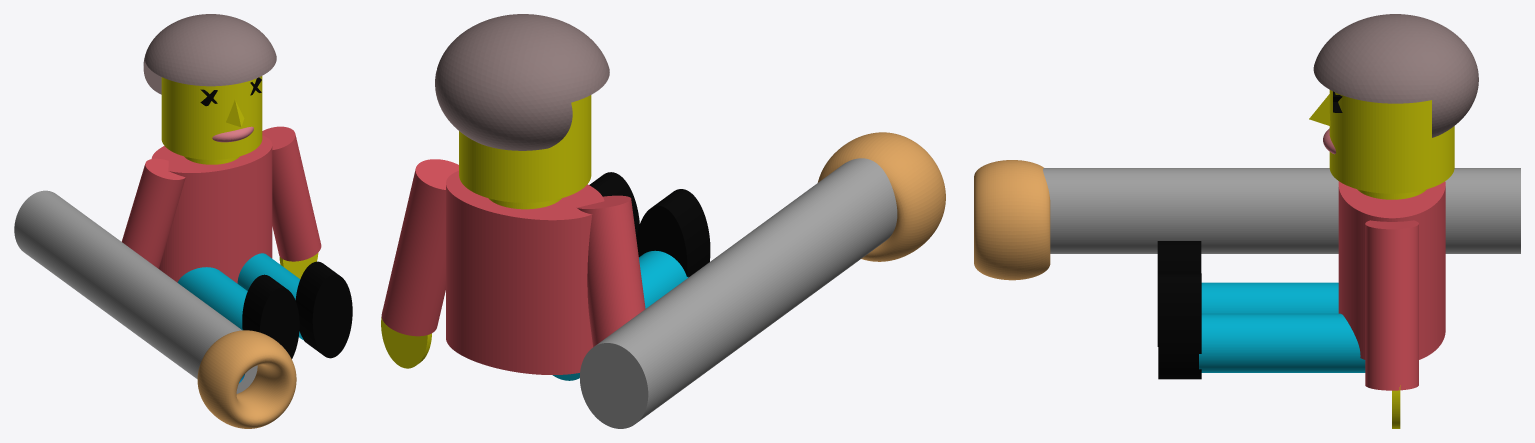
The model's file is deadperson.glb.
3 renders of one model, left to right at view 1: azimuth 30°, elevation 25°; view 2: azimuth 150°, elevation 25°; view 3: azimuth 270°, elevation 25°, orthographic. The views are drawn at different scales.
Bounding box in the file's own units: 0.1221 × 0.1234 × 0.1749.
